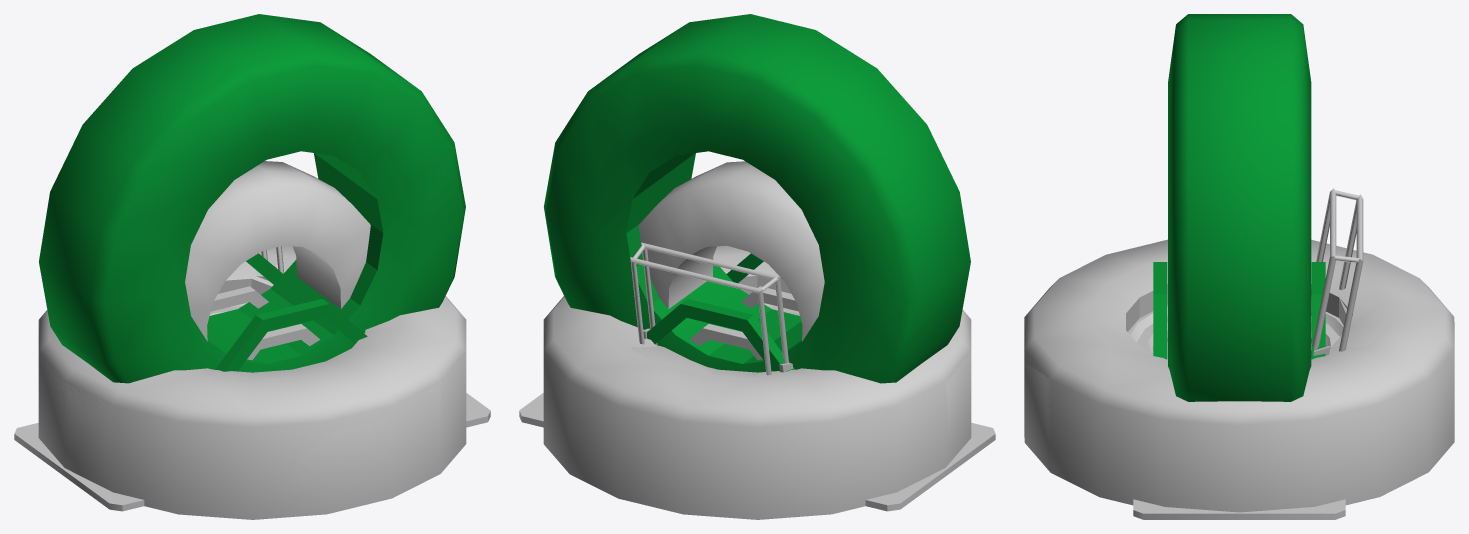
Rendered from damnCraft_worldItems.fbx.
3 views of the same model, side by side, from view 1: azimuth 30°, elevation 25°; view 2: azimuth 150°, elevation 25°; view 3: azimuth 270°, elevation 25° (orthographic).
Visible parts, largest first — view 1: tire_mounted_LargeWI, tire_good_LargeWI, tire_mounted_SmallWI, tire_destroyed_LargeWI, glass_pane_LargeWI; view 2: tire_mounted_LargeWI, tire_good_LargeWI, tire_mounted_SmallWI, tire_destroyed_LargeWI, seat_frame_LargeWI, glass_pane_LargeWI; view 3: tire_good_LargeWI, tire_mounted_LargeWI, tire_destroyed_LargeWI, seat_frame_LargeWI, glass_pane_LargeWI, rim_LargeWI, rim_MediumWI.
Boxes of the visible parts, left/top/right/bottom form: tire_mounted_LargeWI: left=39, top=14, right=465, bottom=383; tire_good_LargeWI: left=38, top=245, right=466, bottom=519; tire_mounted_SmallWI: left=185, top=161, right=370, bottom=360; tire_destroyed_LargeWI: left=38, top=261, right=440, bottom=518; glass_pane_LargeWI: left=14, top=393, right=490, bottom=511; tire_mounted_LargeWI: left=544, top=14, right=970, bottom=383; tire_good_LargeWI: left=543, top=245, right=971, bottom=519; tire_mounted_SmallWI: left=638, top=161, right=824, bottom=360; tire_destroyed_LargeWI: left=631, top=284, right=971, bottom=490; seat_frame_LargeWI: left=630, top=242, right=793, bottom=375; glass_pane_LargeWI: left=519, top=393, right=995, bottom=511; tire_good_LargeWI: left=1024, top=239, right=1454, bottom=512; tire_mounted_LargeWI: left=1153, top=14, right=1325, bottom=401; tire_destroyed_LargeWI: left=1024, top=283, right=1385, bottom=471; seat_frame_LargeWI: left=1311, top=188, right=1363, bottom=359; glass_pane_LargeWI: left=1133, top=499, right=1345, bottom=519; rim_LargeWI: left=1128, top=304, right=1343, bottom=359; rim_MediumWI: left=1137, top=315, right=1339, bottom=352.
Bounding box in the file's own units: 1.27 × 1.23 × 1.23.
